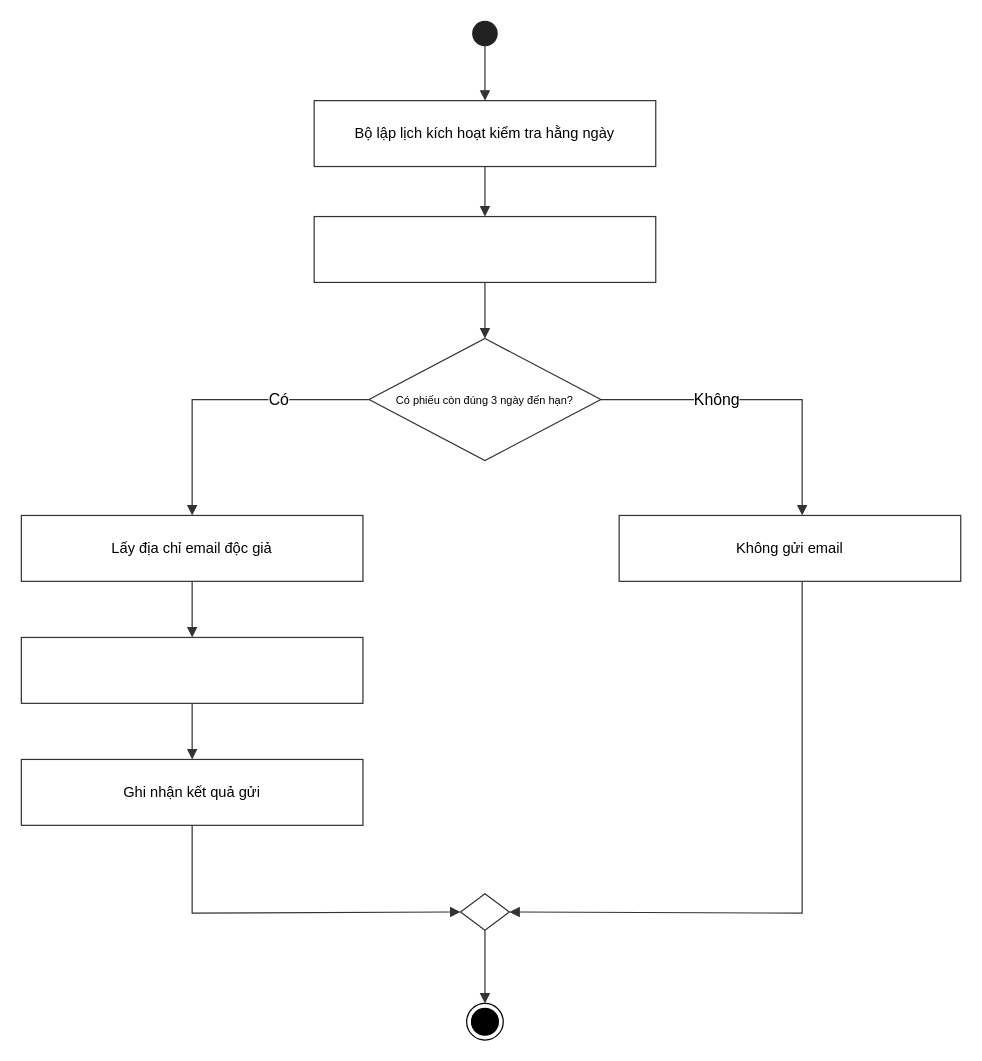
This 982x1061 diagram has some shape labels left out. Here are the shapes that lost their labels. From the top down, the centre of each, then its label:
At (484,248): "Hệ thống tìm phiếu mượn chưa trả".
At (191,669): "Gửi email nhắc hạn trả".
